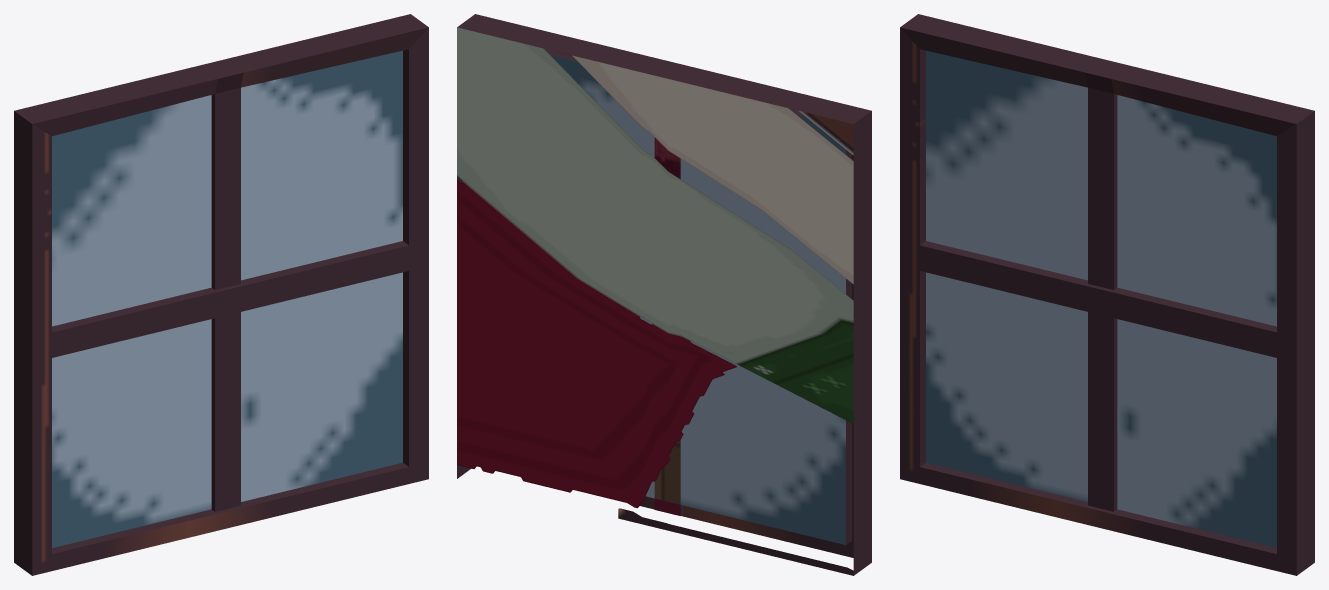
File: JanelaVertical.fbx
The picture shows the model from 3 angles, left to right: view 1: azimuth 30°, elevation 25°; view 2: azimuth 150°, elevation 25°; view 3: azimuth 330°, elevation 25°; orthographic projection.
Parts seen in each view (by area): view 1: JanelaVertical; view 2: JanelaVertical; view 3: JanelaVertical.
Part boxes in pixels (<box>): JanelaVertical: <box>14,14,428,575</box>; JanelaVertical: <box>457,14,871,575</box>; JanelaVertical: <box>900,14,1314,575</box>.
Bounding box in the file's own units: 132 × 10.57 × 144.
